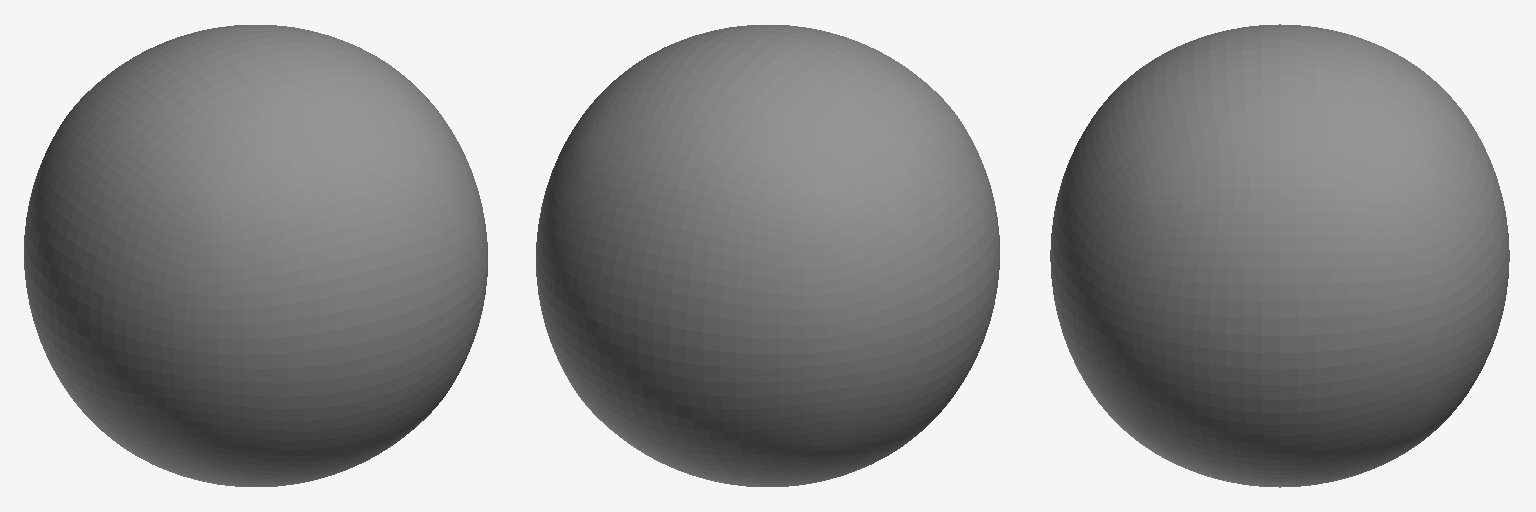
File: BalonBasket.obj
3 renders of one model, left to right at view 1: azimuth 30°, elevation 25°; view 2: azimuth 150°, elevation 25°; view 3: azimuth 270°, elevation 25°, orthographic.
Visible parts, largest first — view 1: 10487_basketball_v1_3dmax2011_it2; view 2: 10487_basketball_v1_3dmax2011_it2; view 3: 10487_basketball_v1_3dmax2011_it2.
Part boxes in pixels (left/top/right/bottom): 10487_basketball_v1_3dmax2011_it2: left=24, top=25, right=487, bottom=486; 10487_basketball_v1_3dmax2011_it2: left=536, top=25, right=999, bottom=486; 10487_basketball_v1_3dmax2011_it2: left=1050, top=24, right=1509, bottom=487.
Bounding box in the file's own units: 39.33 × 39.33 × 39.33.